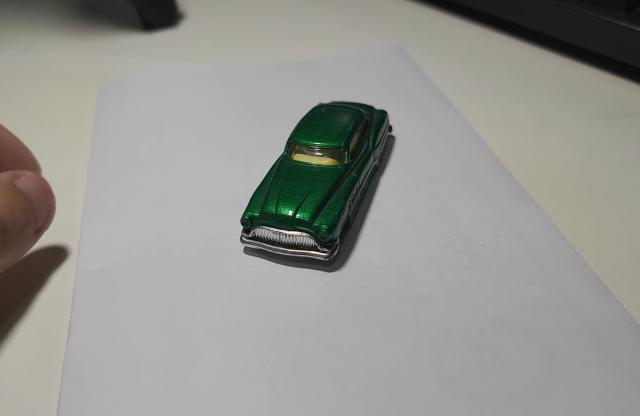06_MASERATI: (239, 102, 397, 271)
